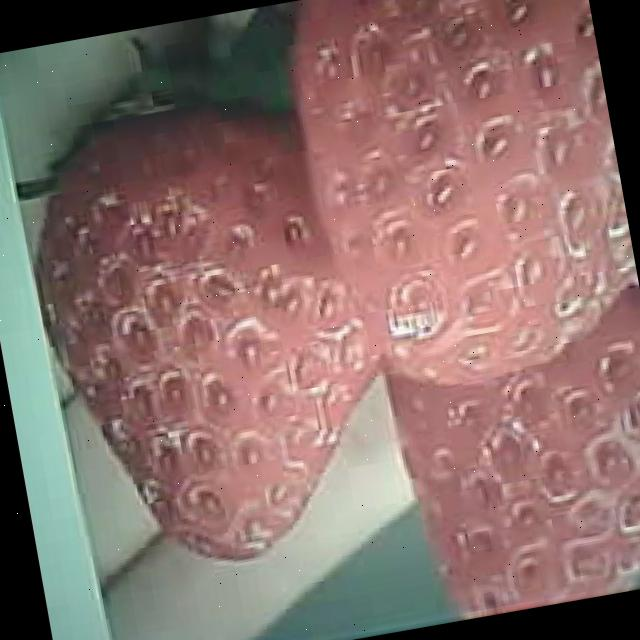strawberry: (12, 83, 409, 582), (280, 0, 640, 406)
